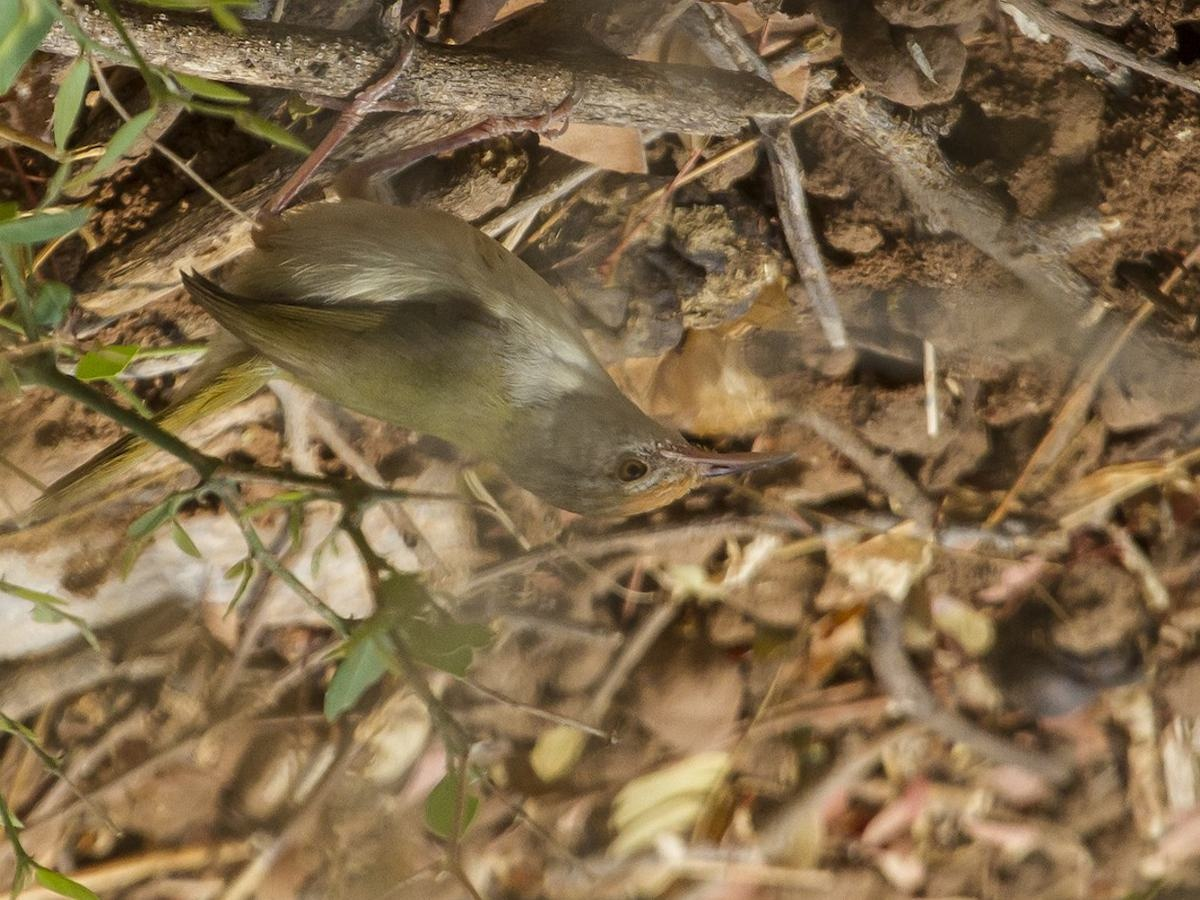tailorbird: (16, 122, 796, 553)
